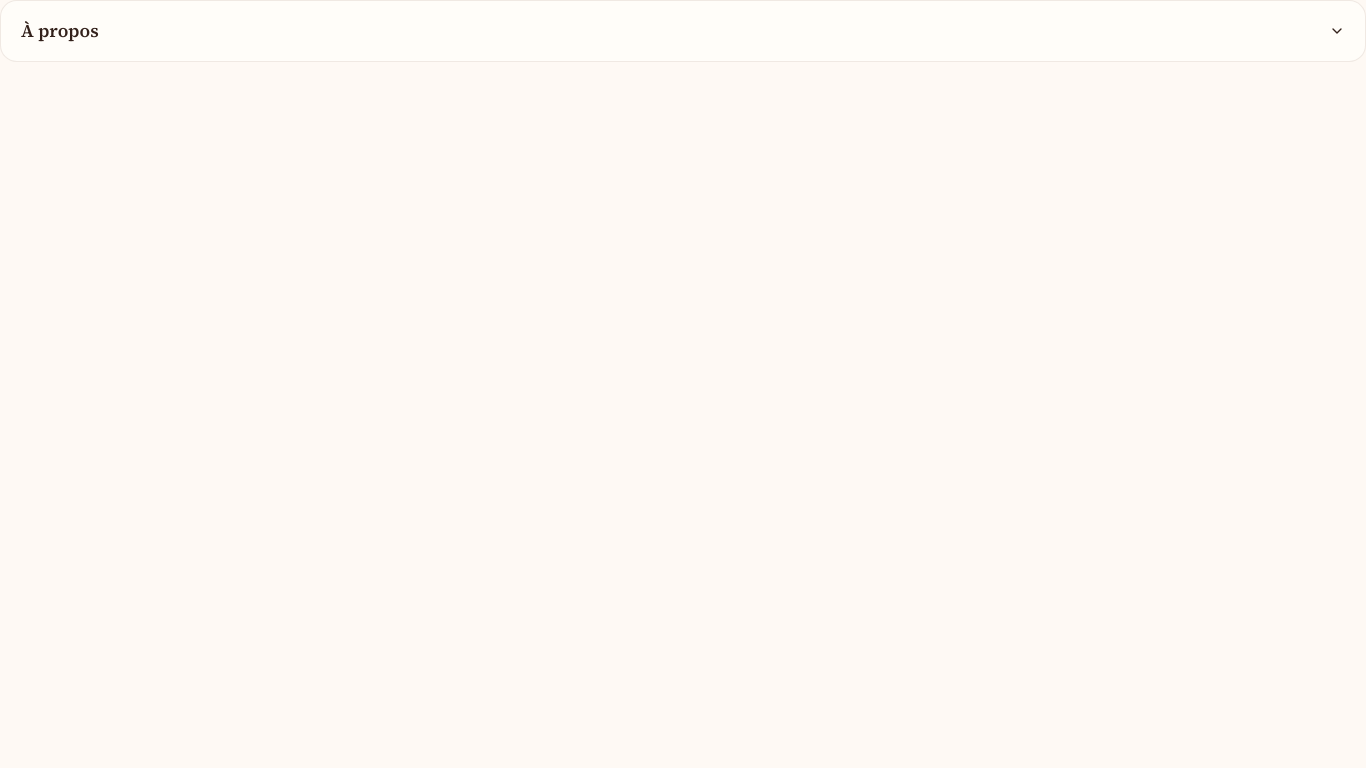
Test: AProposContentForm › renders the fields, the values and the image upload
Click the button "À propos". click: point(60, 30)
box: [1,1,1365,61]
(page scrolled)
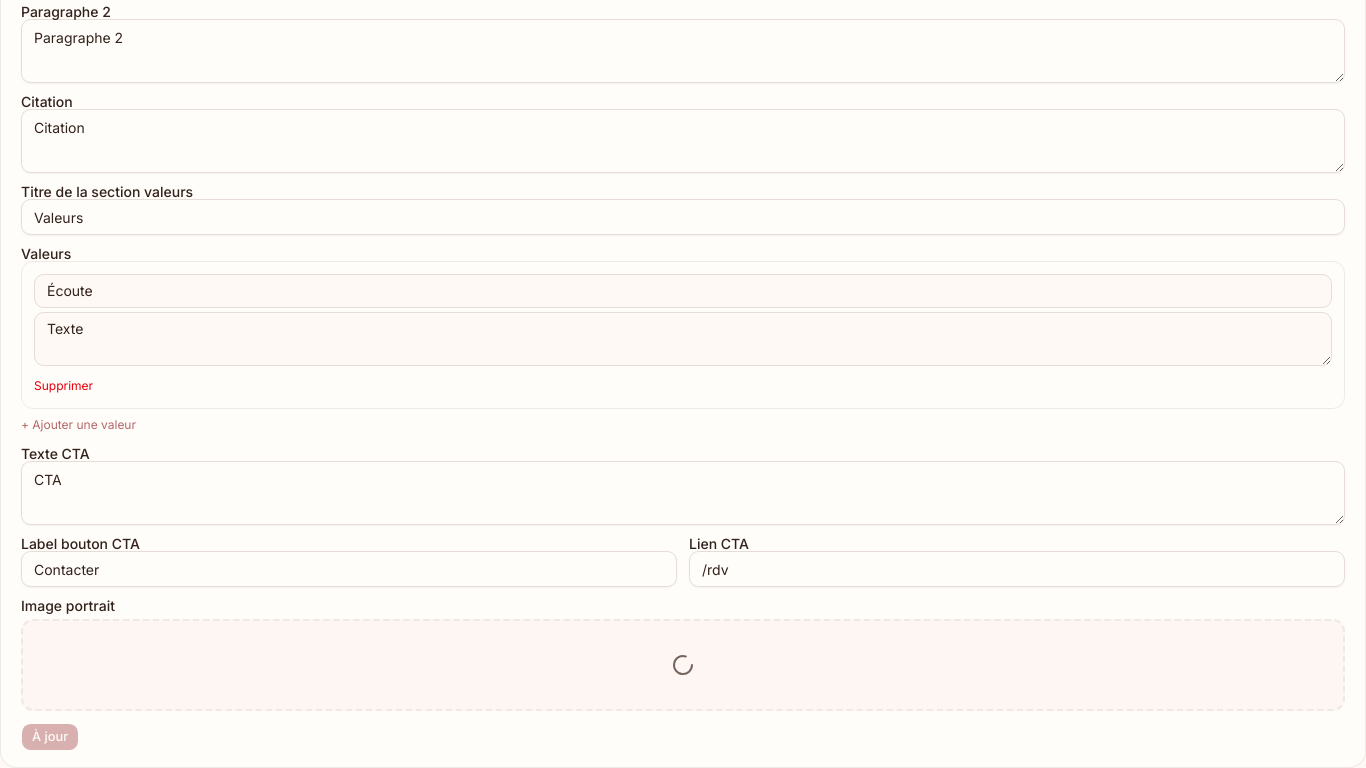
Now the field below "Titre de la section valeurs" holds "Valeurs", box [21,199,1345,235]
Now the 2nd field with placeholder "Titre" holds "Écoute", box [34,274,1332,308]
Now the 3rd text box with placeholder "Texte" holds "Texte", box [34,312,1332,366]
